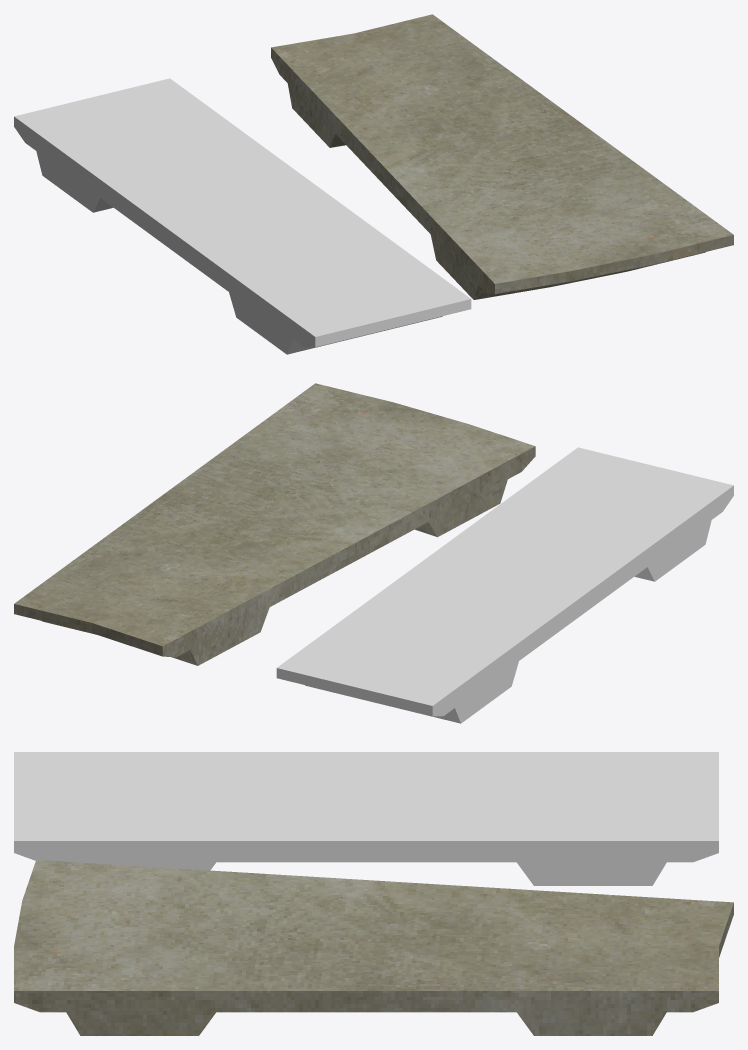
Rendered from MotorwayBridgeTurn.glb.
3 renders of one model, top to bottom at view 1: azimuth 30°, elevation 25°; view 2: azimuth 150°, elevation 25°; view 3: azimuth 270°, elevation 25°, orthographic. The views are drawn at different scales.
Parts seen in each view (by area): view 1: Cube.002, Cube.001; view 2: Cube.002, Cube.001; view 3: Cube.002, Cube.001.
Part boxes in pixels (<box>): Cube.002: <box>271,14,733,299</box>; Cube.001: <box>14,78,471,354</box>; Cube.002: <box>14,383,535,665</box>; Cube.001: <box>276,447,733,723</box>; Cube.002: <box>14,860,733,1035</box>; Cube.001: <box>14,752,718,885</box>.
Bounding box in the file's own units: 47.89 × 4.21 × 60.99.
Materials: 2 (1 with a texture image).
